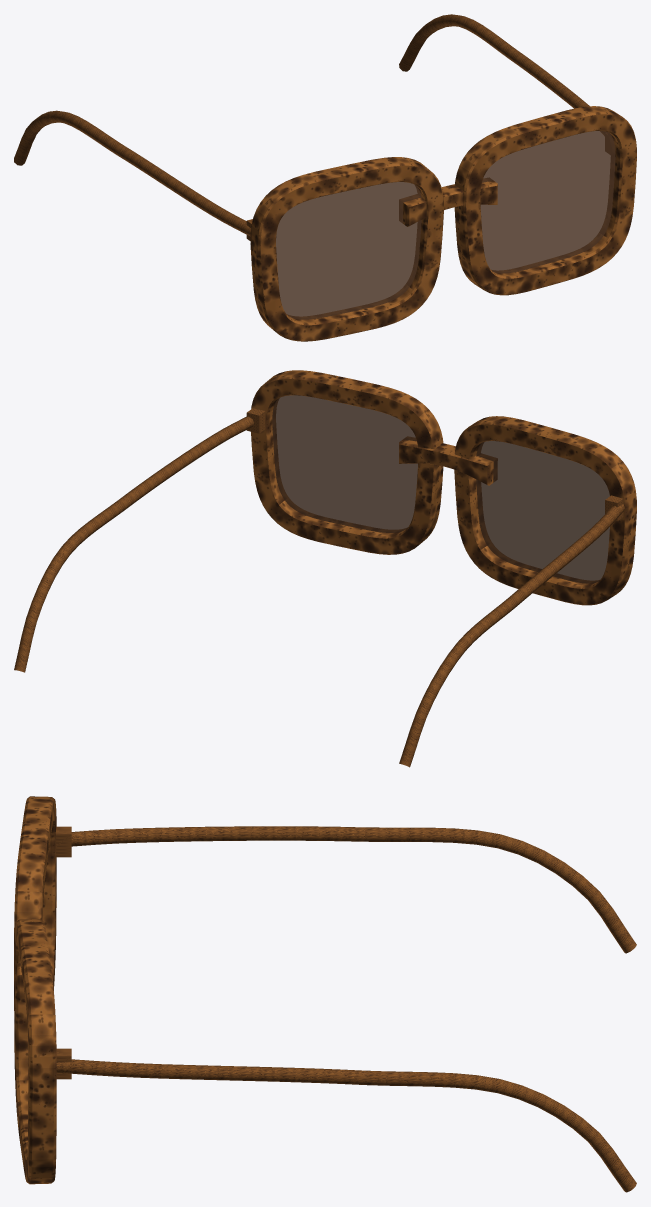
File: NY-S02_Laguna_Havana_tortoise_Brown_lens.glb
3 views of the same model, one above another, from view 1: azimuth 30°, elevation 25°; view 2: azimuth 150°, elevation 25°; view 3: azimuth 270°, elevation 25° (orthographic). The views are drawn at different scales.
Visible parts, largest first — view 1: Laguna_Havana_tortoise_Brown_lens_Acetate, Laguna_Havana_tortoise_Brown_lens_Lenses; view 2: Laguna_Havana_tortoise_Brown_lens_Acetate, Laguna_Havana_tortoise_Brown_lens_Lenses; view 3: Laguna_Havana_tortoise_Brown_lens_Acetate.
Part boxes in pixels (left/top/right/bottom): Laguna_Havana_tortoise_Brown_lens_Acetate: left=14, top=14, right=636, bottom=341; Laguna_Havana_tortoise_Brown_lens_Lenses: left=276, top=131, right=615, bottom=319; Laguna_Havana_tortoise_Brown_lens_Acetate: left=14, top=370, right=636, bottom=767; Laguna_Havana_tortoise_Brown_lens_Lenses: left=272, top=395, right=609, bottom=583; Laguna_Havana_tortoise_Brown_lens_Acetate: left=14, top=796, right=636, bottom=1192.
Bounding box in the file's own units: 0.1536 × 0.0587 × 0.1609.
2 materials, 1 textured.
